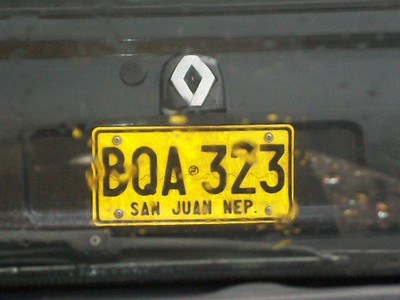placa_carro: (82, 122, 304, 235)
